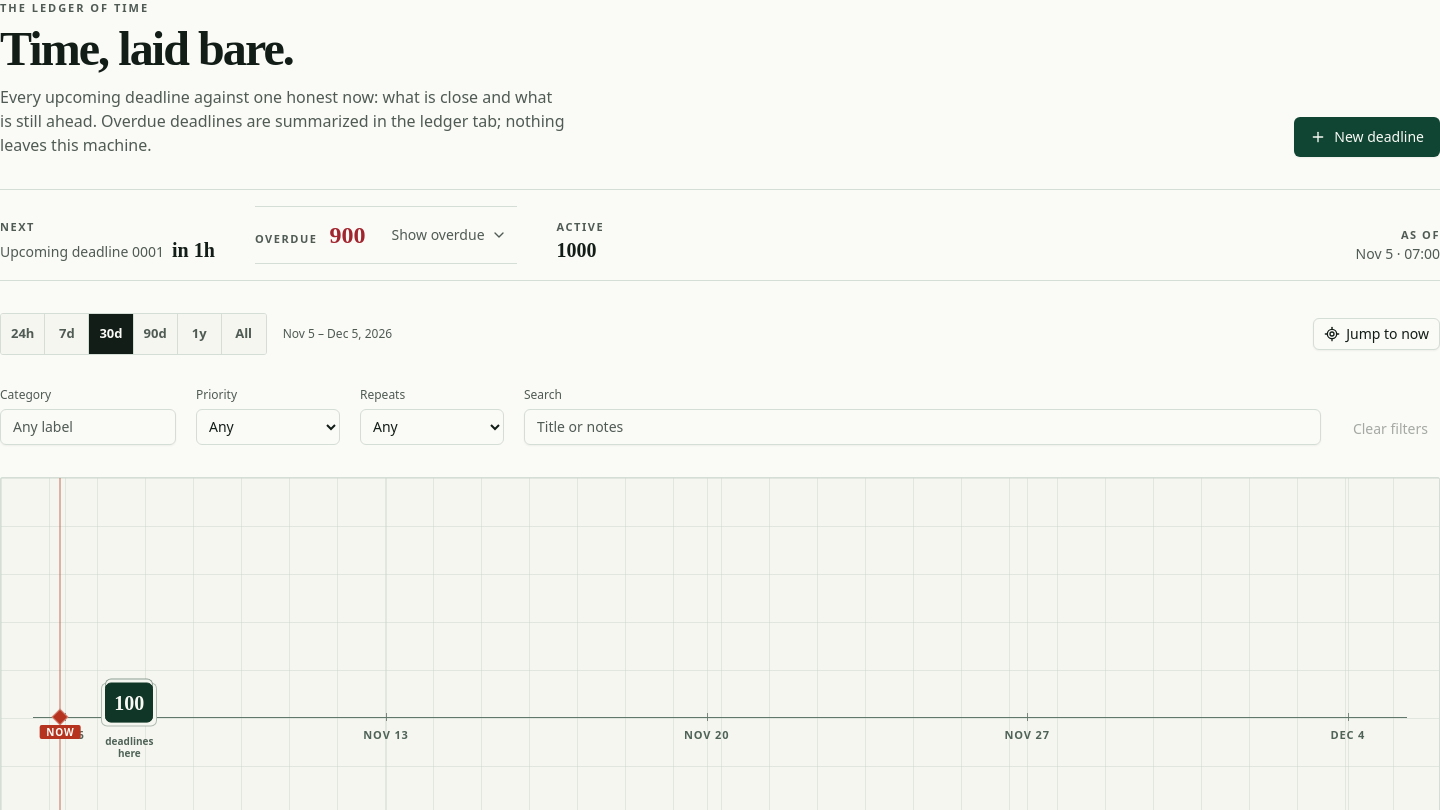
Test: upcoming-focus performance › renders 1,000 timeline deadlines and settles reveal/hide within budget
This screenshot has width=1440, height=810.
What coordinates should you click on to do the following:
click the button "Show overdue"
I would click on:
 (449, 234)
Its box is top-left (382, 214), bottom-right (516, 254).
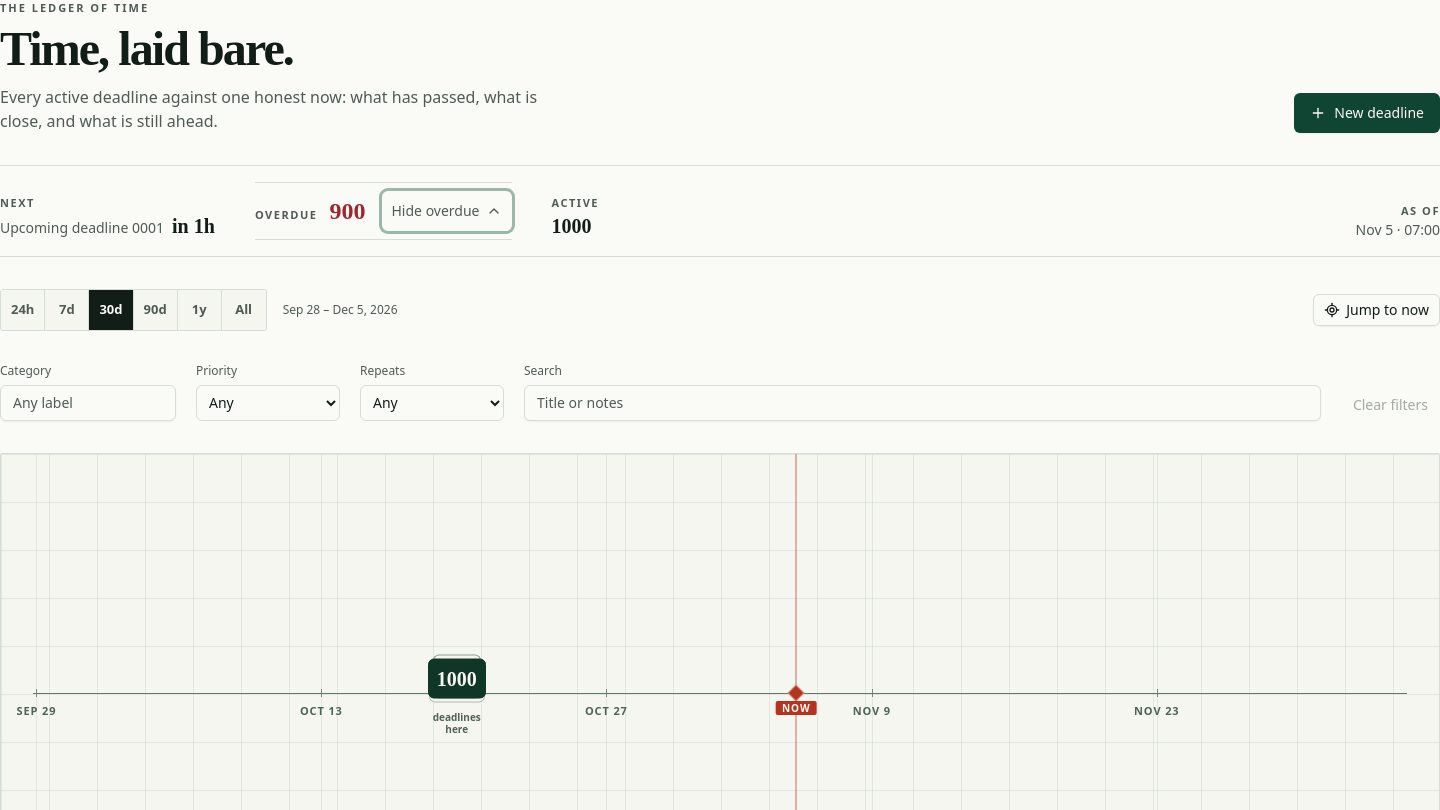
What coordinates should you click on to do the following:
click the button "Hide overdue"
I would click on:
 (446, 210)
Its box is top-left (382, 190), bottom-right (512, 230).
(page scrolled)
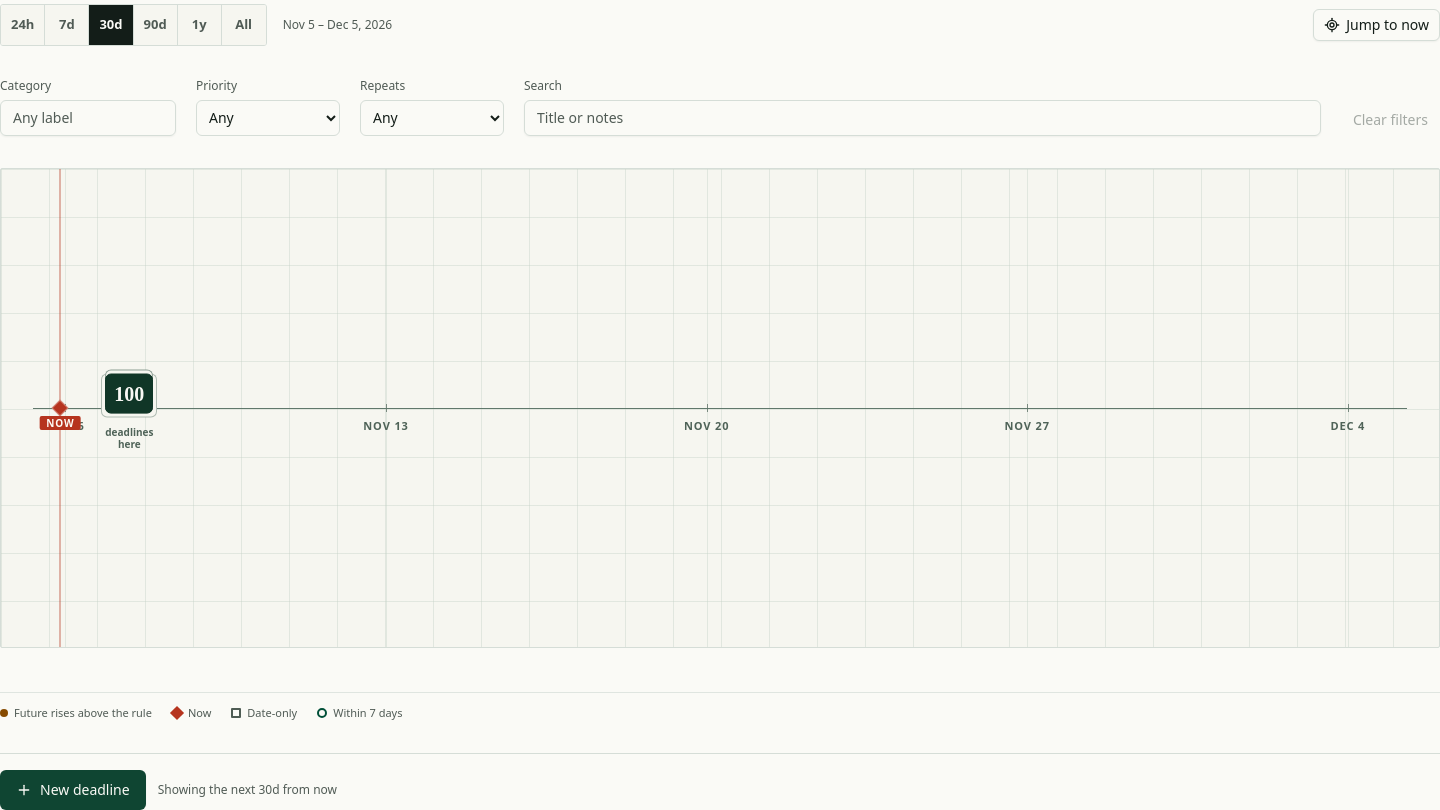
Expected: the button "Overdue deadline" is not shown
Result: the element named "Upcoming deadlines" is shown at top-left (0, 168), bottom-right (1439, 648)
